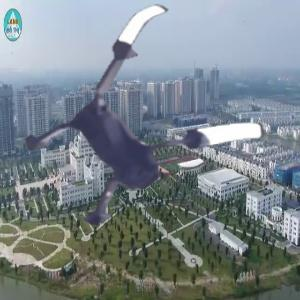drone: (6, 1, 275, 270)
